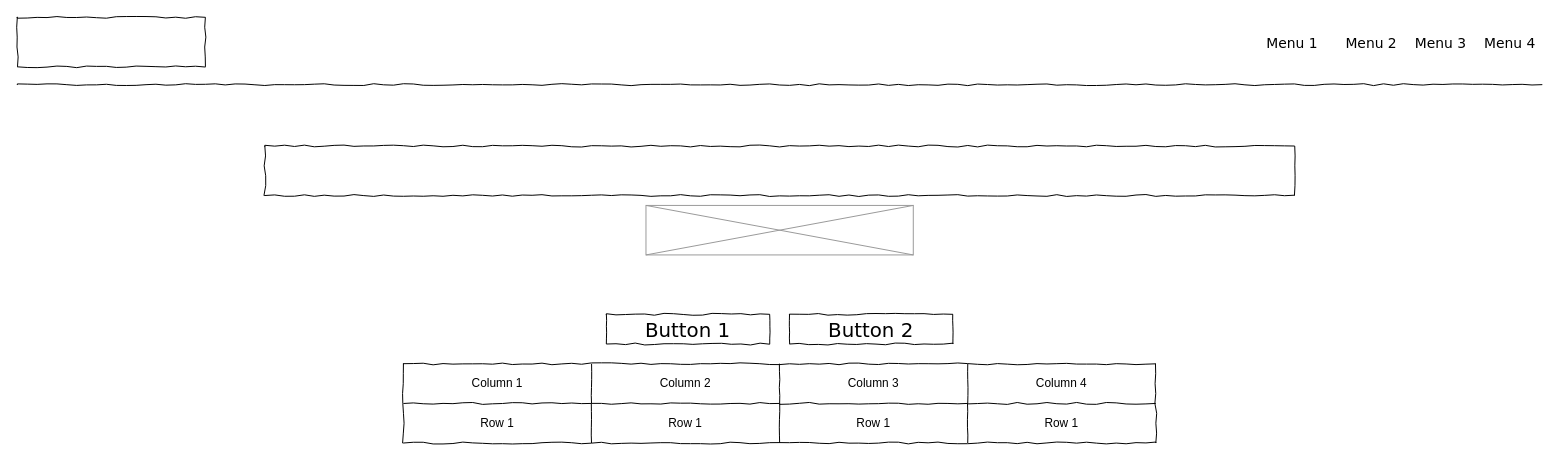
This 1559x460 diagram has some shape labels left out. The shapes that lost their labels are listed below. From the top down, each one's centre as x and y in pixels, then its label:
the point at 110,41: LOGO
the point at 779,170: HEADER
